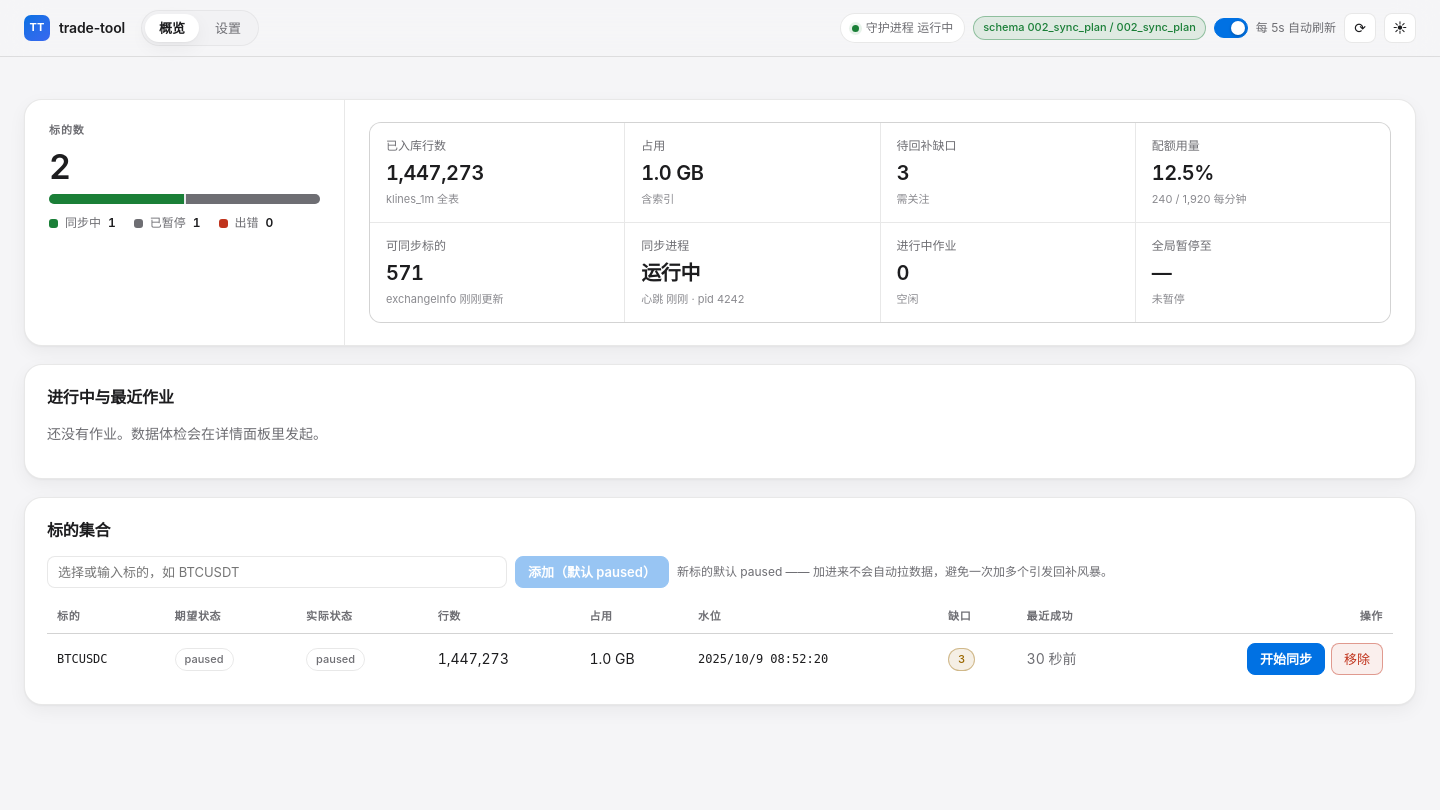
Test: 详情页 K 线 › 选中已有历史的标的后画出 K 线，并说明数据读自本地库
Click the text "BTCUSDC".
click(106, 659)  # box [47,633,165,684]
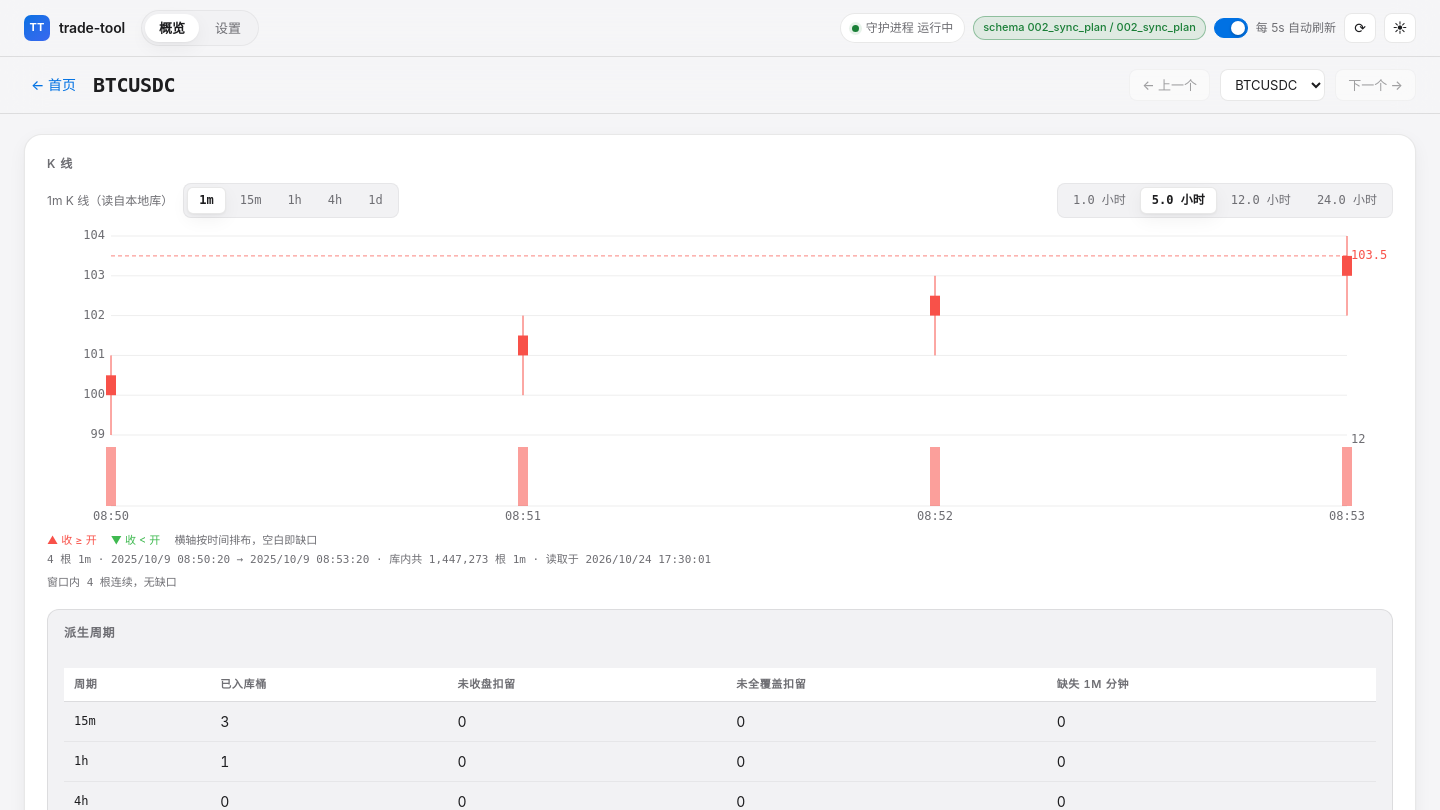
expect the text "1m K 线（读自本地库）" is shown: met, box [47,192,173,210]
expect the button titled "切换到 4h" is shown: met, box [316,187,354,214]
expect the button titled "最近 60 根" is shown: met, box [1061,187,1138,214]
